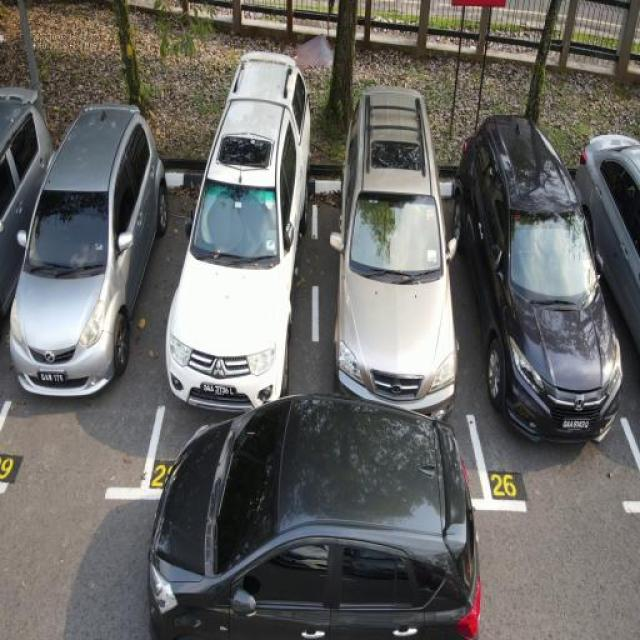Legalparking: (331, 88, 620, 440), (166, 52, 309, 409), (10, 105, 168, 396)
illegalparking: (149, 395, 481, 639)
